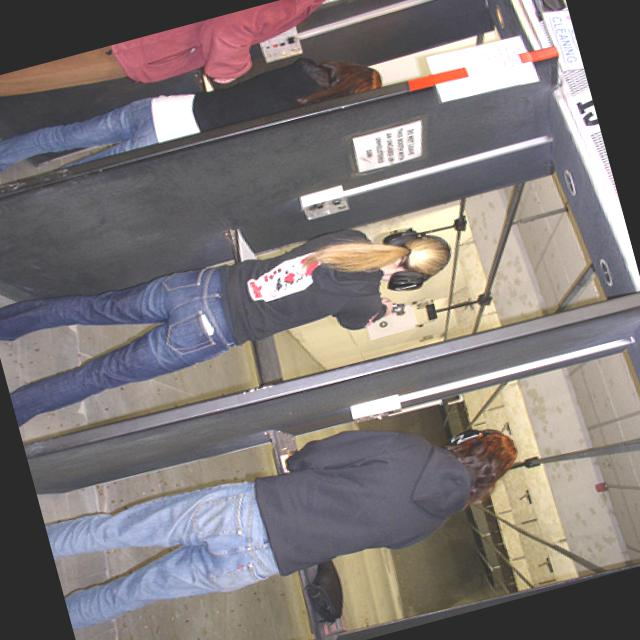handgun: (384, 295, 410, 316)
